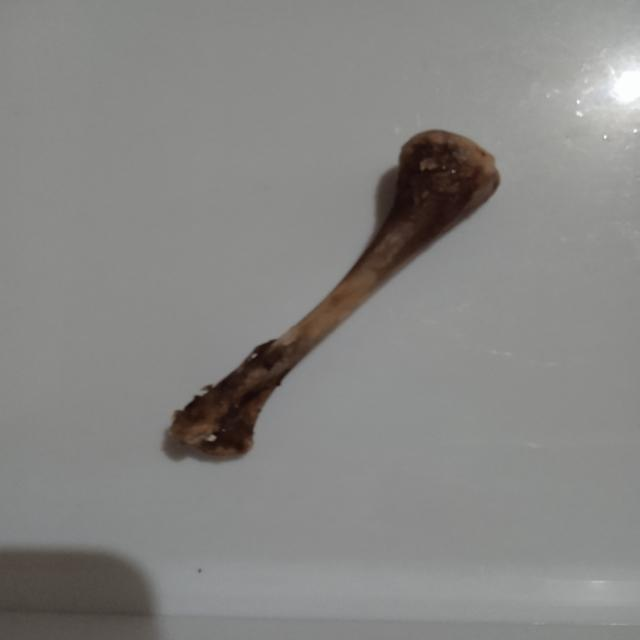bone: (160, 122, 510, 464)
